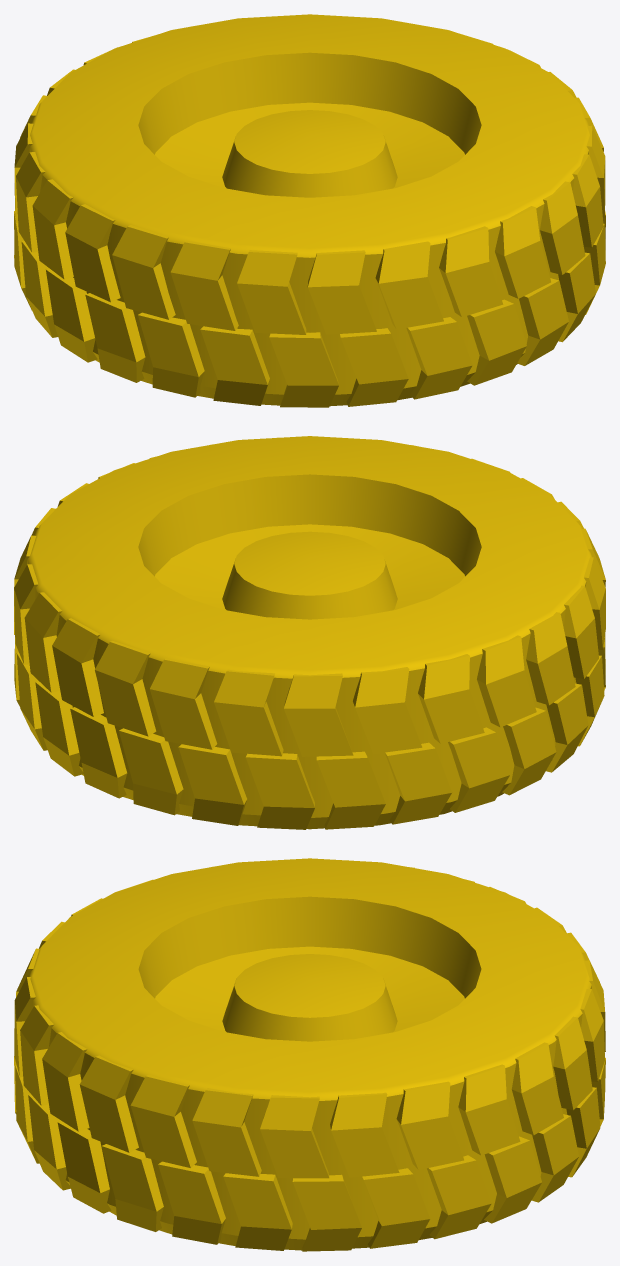
File: Tire.fbx
3 renders of one model, top to bottom at view 1: azimuth 30°, elevation 25°; view 2: azimuth 150°, elevation 25°; view 3: azimuth 270°, elevation 25°, orthographic.
Parts seen in each view (by area): view 1: Tire; view 2: Tire; view 3: Tire.
Part boxes in pixels (x1,y1,x2,y2): Tire: [14, 14, 605, 407]; Tire: [14, 436, 605, 829]; Tire: [14, 858, 605, 1251].
Bounding box in the file's own units: 86.14 × 27.06 × 86.14.
